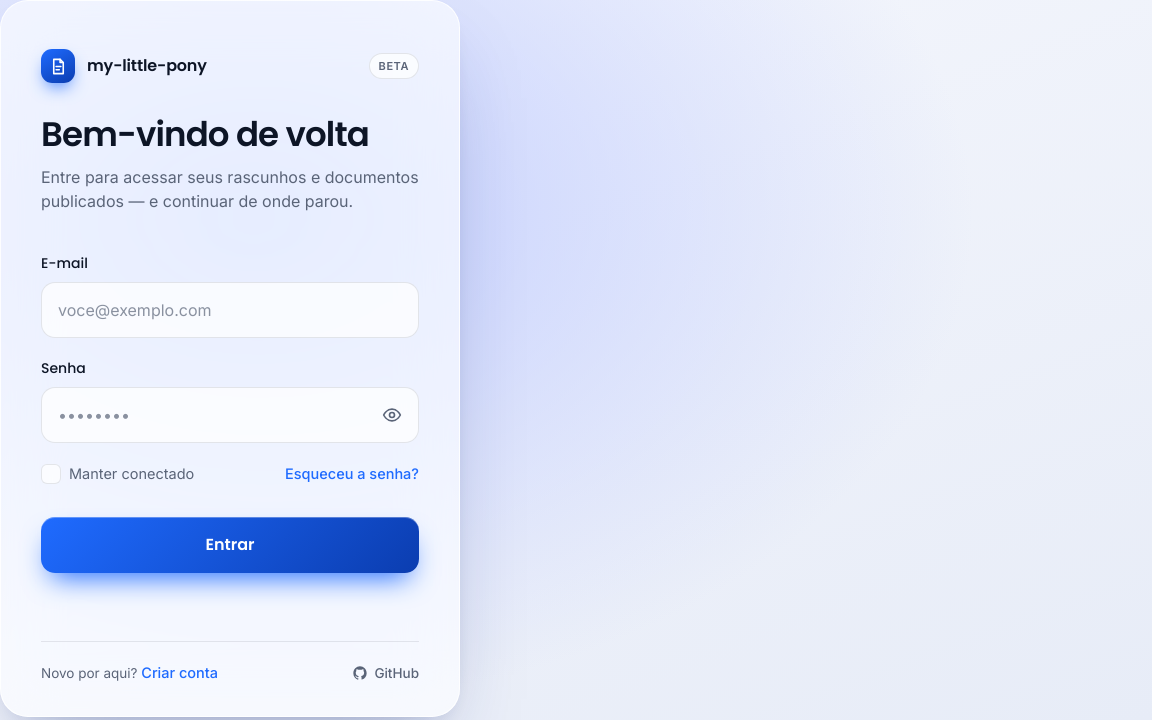
Scenario: LoginForm › mostra a mensagem de erro do backend
Type "a@b.com" into the field labelled "E-mail" at (230, 310), box [41,282,419,338]
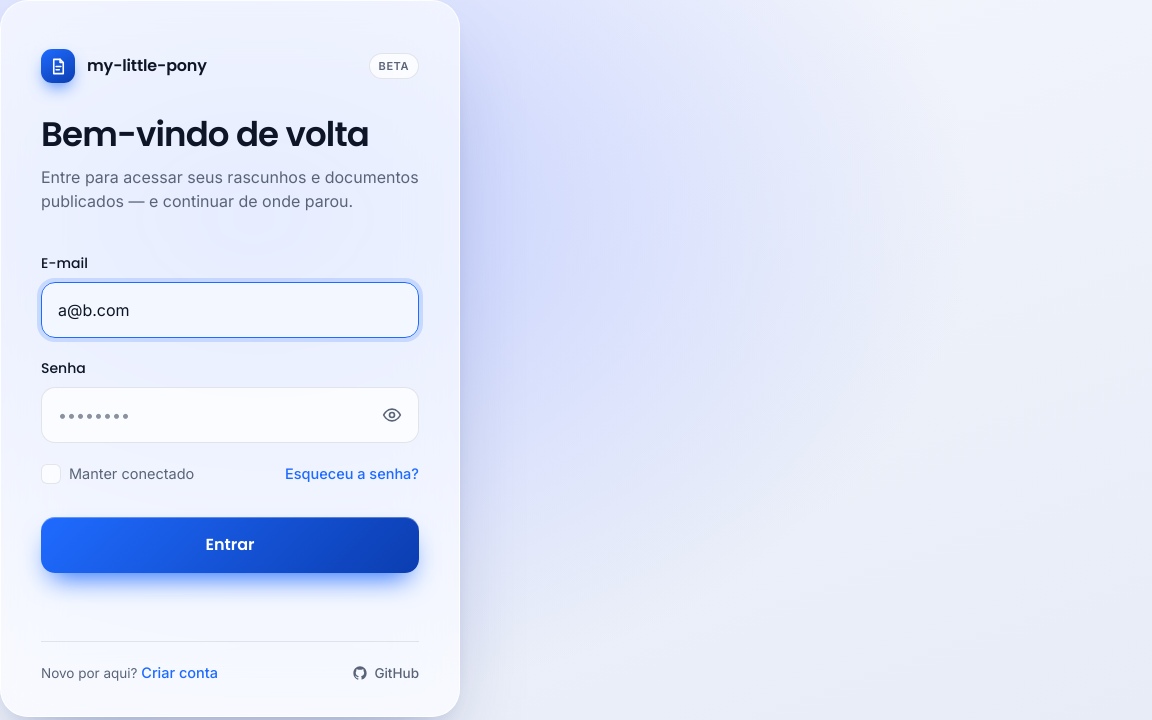
Type "wrong" into the password field labelled "Senha" at (230, 415), box [41,387,419,443]
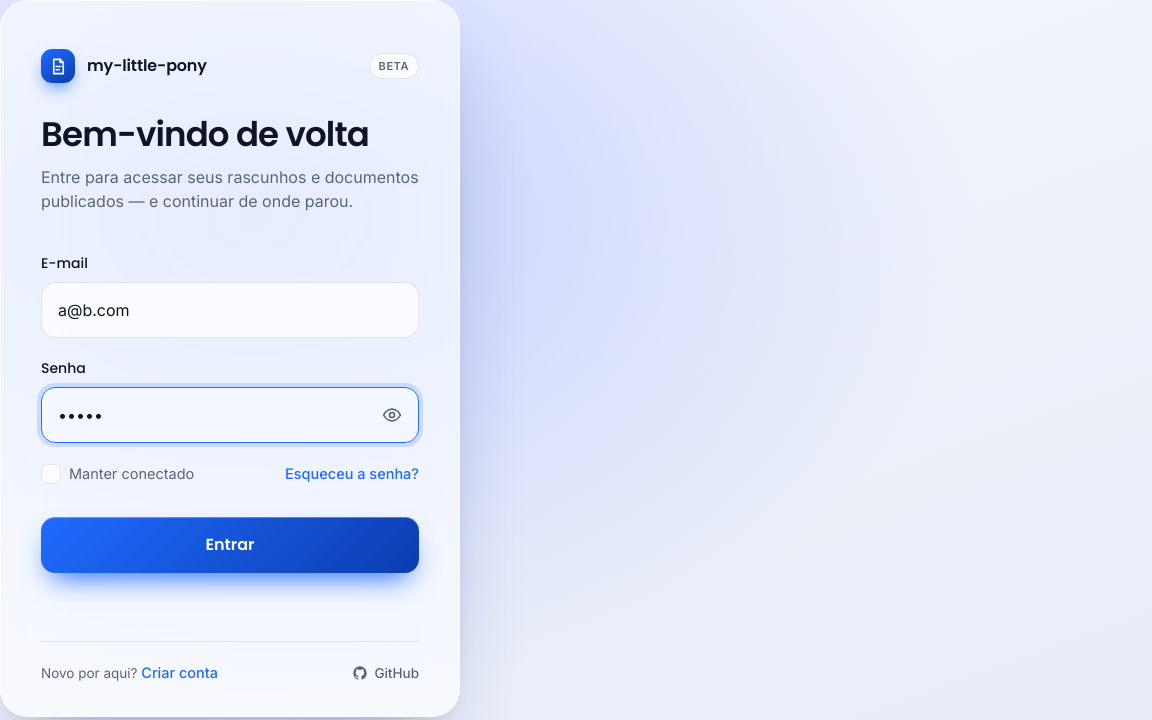
Click the button "Entrar" at (230, 545), box [41,517,419,573]
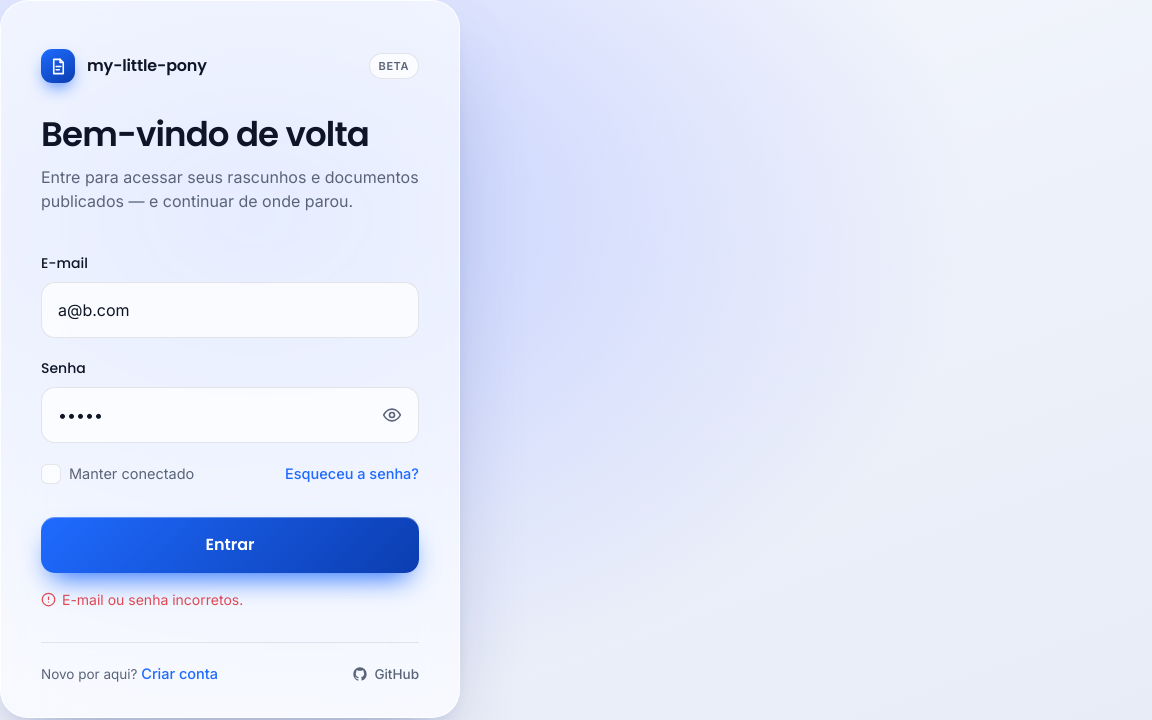
Check: the text "E-mail ou senha incorretos." is shown, box [62,589,243,610]
